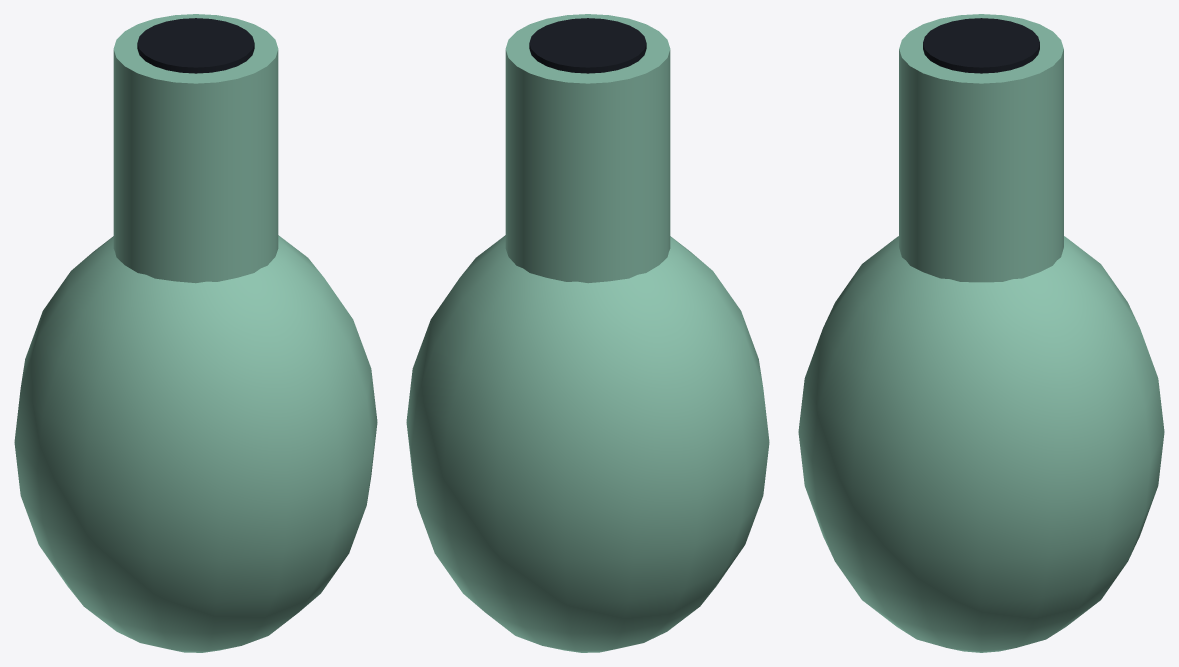
Rendered from small-vase.glb.
3 views of the same model, side by side, from view 1: azimuth 30°, elevation 25°; view 2: azimuth 150°, elevation 25°; view 3: azimuth 270°, elevation 25° (orthographic).
Visible parts, largest first — view 1: small-vase; view 2: small-vase; view 3: small-vase.
Boxes of the visible parts, left/top/right/bottom form: small-vase: left=14, top=14, right=377, bottom=652; small-vase: left=406, top=14, right=769, bottom=652; small-vase: left=798, top=14, right=1164, bottom=652.
Bounding box in the file's own units: 10 × 18 × 10.
